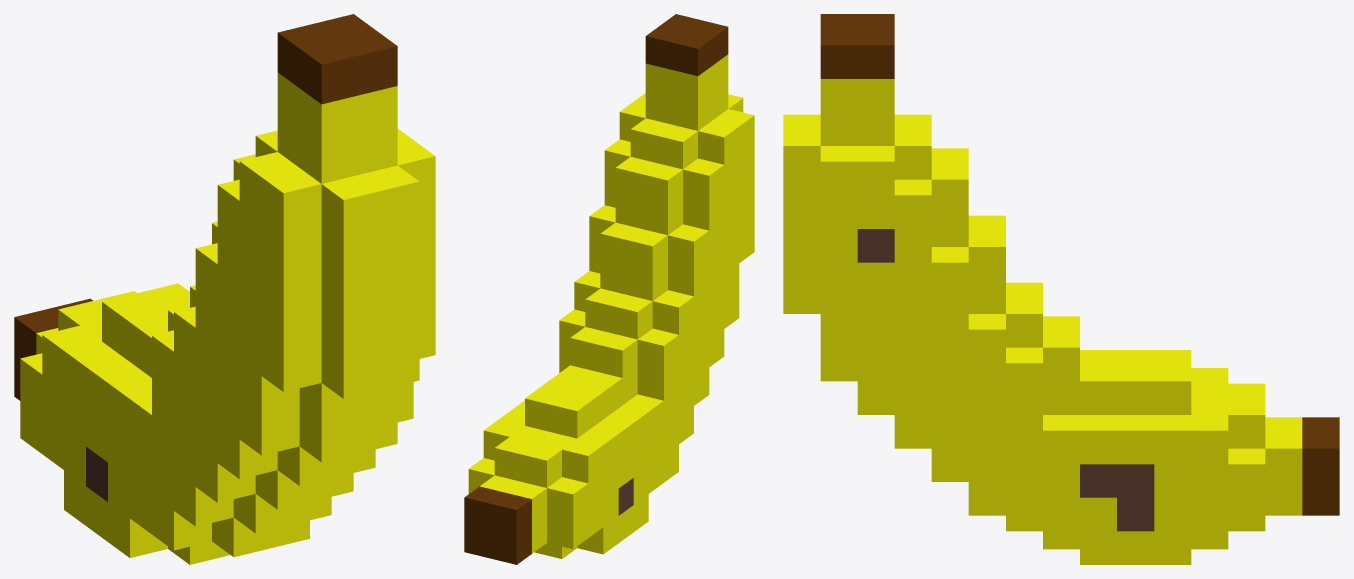
The model's file is Banana.obj.
The picture shows the model from 3 angles, left to right: view 1: azimuth 30°, elevation 25°; view 2: azimuth 150°, elevation 25°; view 3: azimuth 270°, elevation 25°; orthographic projection. The views are drawn at different scales.
Bounding box in the file's own units: 0.4 × 1.5 × 1.5.
Materials: 1 (1 with a texture image).
